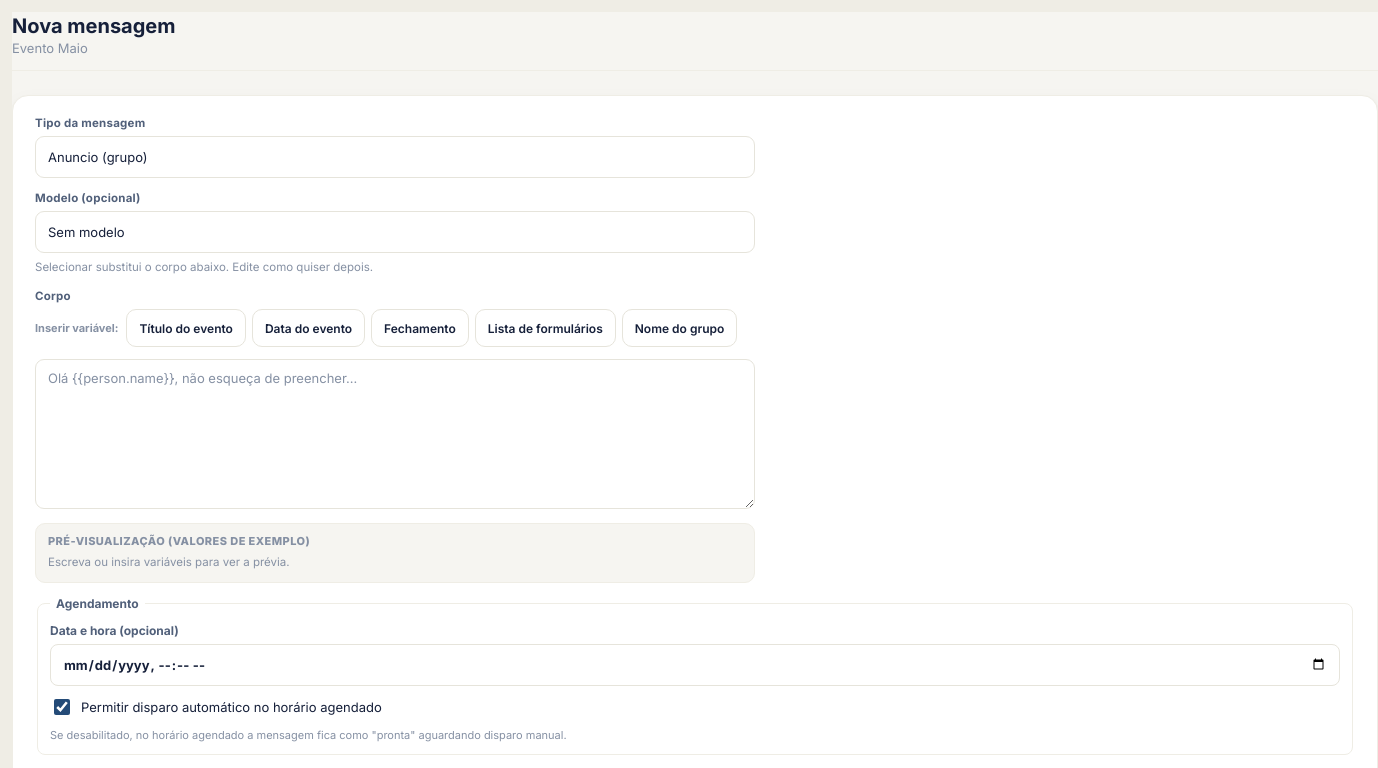
Test: EventMessageEditorScreen › aplica corpo do modelo selecionado
Select "Padrao" in the dropdown labelled "Modelo (opcional)" at x=395, y=232, box [35, 211, 755, 253]
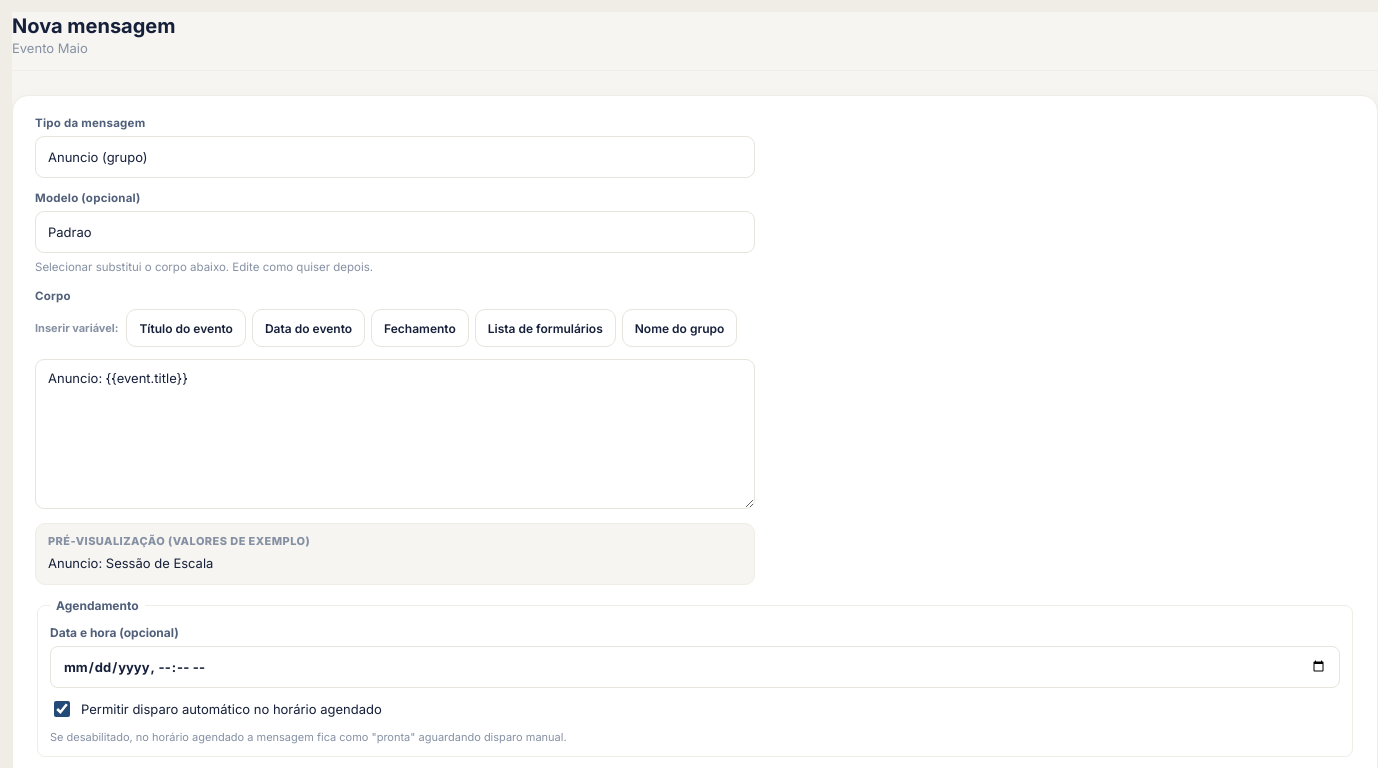
Expected: the text box showing "Anuncio: {{event.title}}" is shown, [35, 359, 755, 509]
